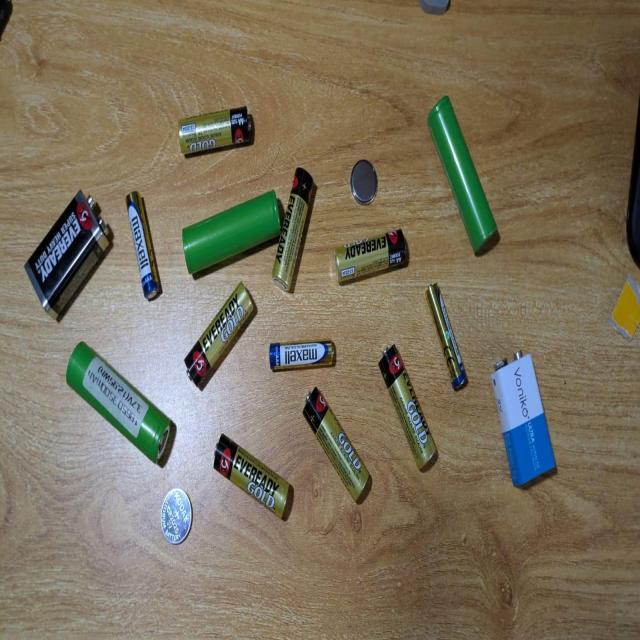9V: (23, 190, 112, 320), (492, 342, 562, 494)
AA: (184, 278, 261, 390), (297, 387, 363, 504), (377, 345, 437, 473), (211, 433, 291, 521), (272, 169, 316, 294), (175, 106, 258, 162), (333, 227, 404, 286)
AAA: (426, 280, 472, 394), (126, 189, 166, 304), (267, 333, 340, 372)
COIN: (160, 482, 192, 542), (349, 153, 378, 210)
